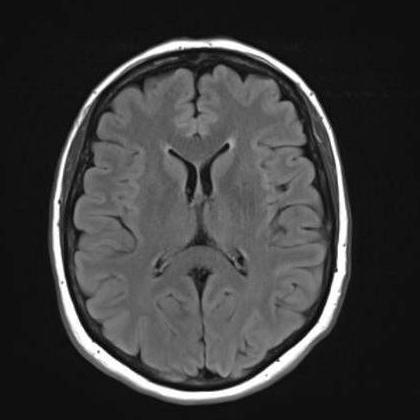Normal_Brain: (1, 1, 379, 420)
